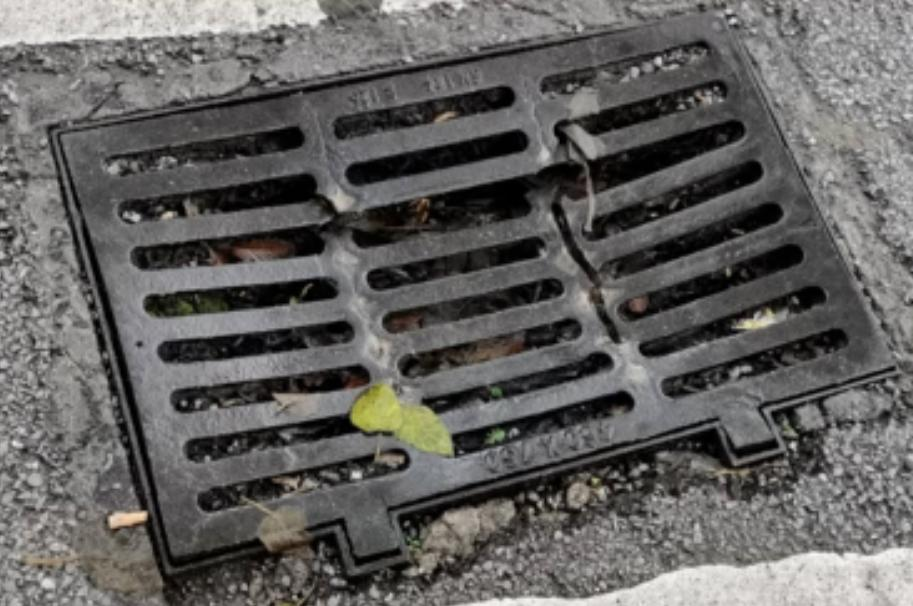wellcover: (49, 5, 906, 573)
